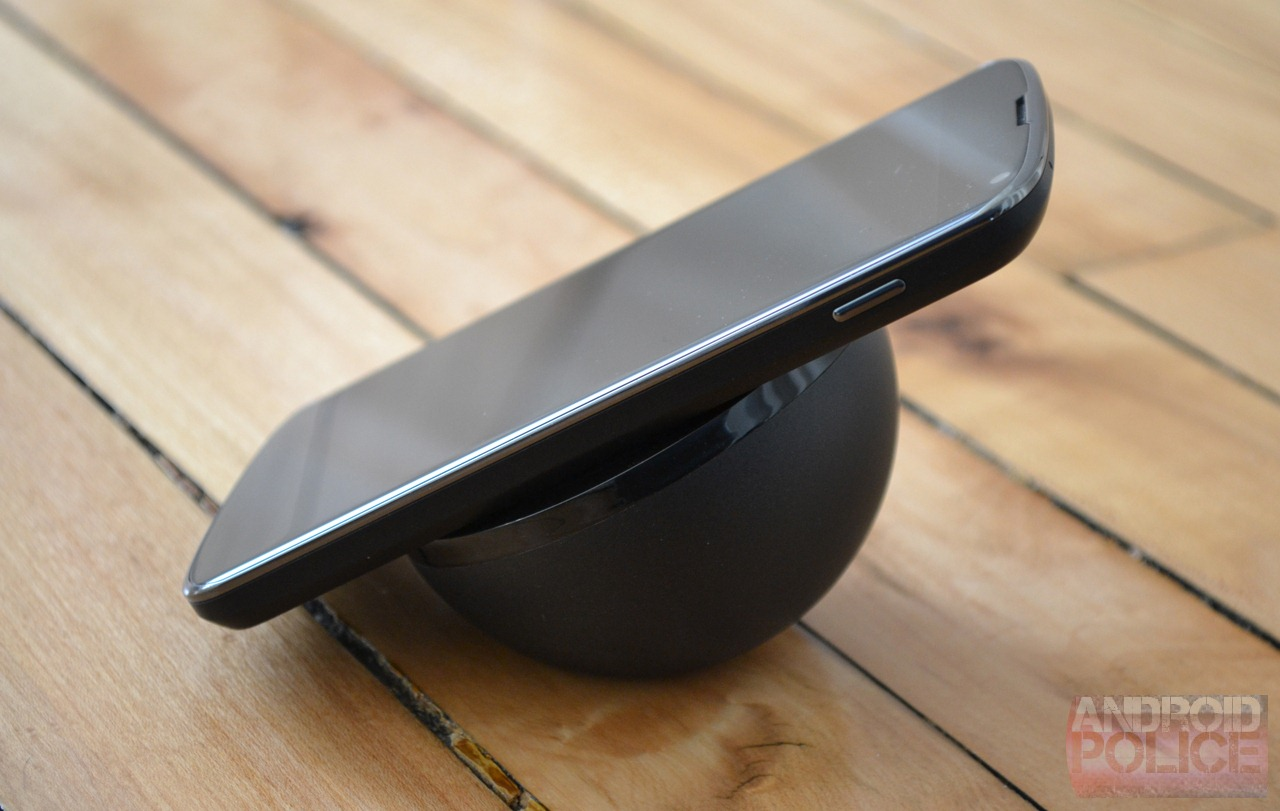smartphone: (184, 58, 1056, 629)
